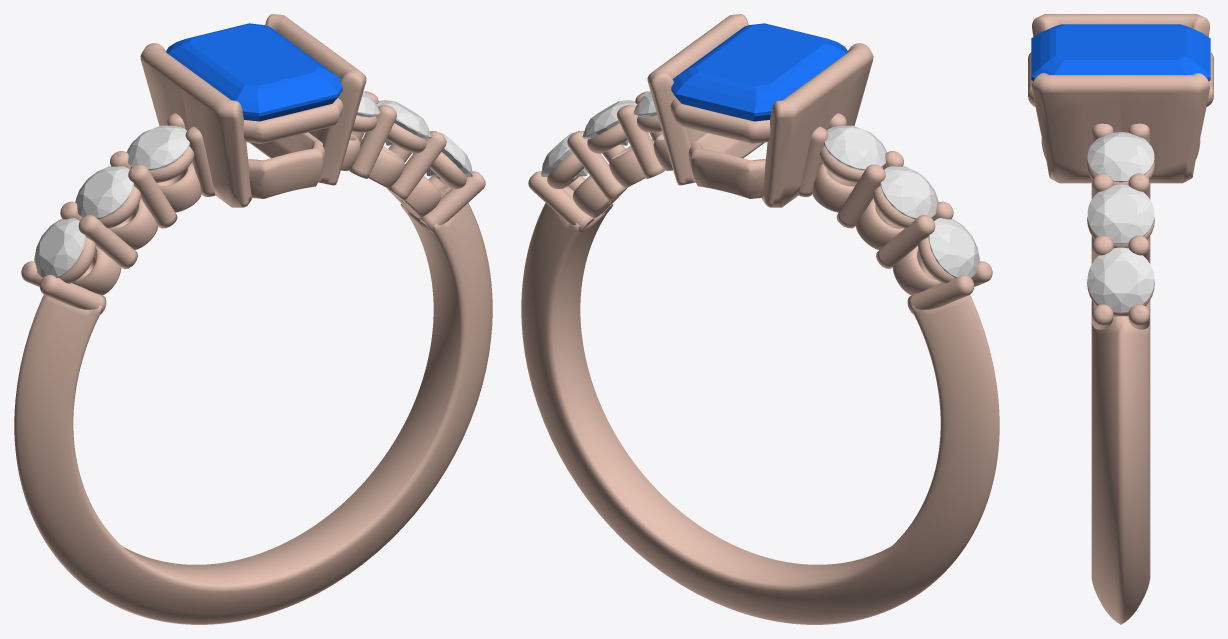
The model's file is bluesapphire-emerald-rosegold-halfmoonbezel-knifeedge-7stone.glb.
The picture shows the model from 3 angles, left to right: view 1: azimuth 30°, elevation 25°; view 2: azimuth 150°, elevation 25°; view 3: azimuth 270°, elevation 25°; orthographic projection.
Visible parts, largest first — view 1: metal.003, stone.002, side.012, side.013, side.014, side.016, side.017; view 2: metal.003, stone.002, side.012, side.013, side.014, side.016, side.017; view 3: metal.003, stone.002, side.017, side.016, side.015.
Boxes of the visible parts, left/top/right/bottom form: metal.003: left=14, top=14, right=492, bottom=624; stone.002: left=166, top=23, right=342, bottom=121; side.012: left=34, top=218, right=85, bottom=277; side.013: left=75, top=166, right=133, bottom=219; side.014: left=126, top=125, right=189, bottom=170; side.016: left=376, top=100, right=431, bottom=145; side.017: left=426, top=131, right=472, bottom=176; metal.003: left=521, top=14, right=999, bottom=624; stone.002: left=671, top=23, right=847, bottom=121; side.012: left=928, top=218, right=979, bottom=277; side.013: left=880, top=166, right=938, bottom=219; side.014: left=824, top=125, right=887, bottom=170; side.016: left=582, top=100, right=637, bottom=145; side.017: left=541, top=131, right=587, bottom=176; metal.003: left=1028, top=14, right=1213, bottom=624; stone.002: left=1031, top=24, right=1210, bottom=81; side.017: left=1087, top=247, right=1154, bottom=312; side.016: left=1087, top=184, right=1154, bottom=244; side.015: left=1087, top=132, right=1154, bottom=182.
Bounding box in the file's own units: 20.4 × 22.94 × 6.94.
